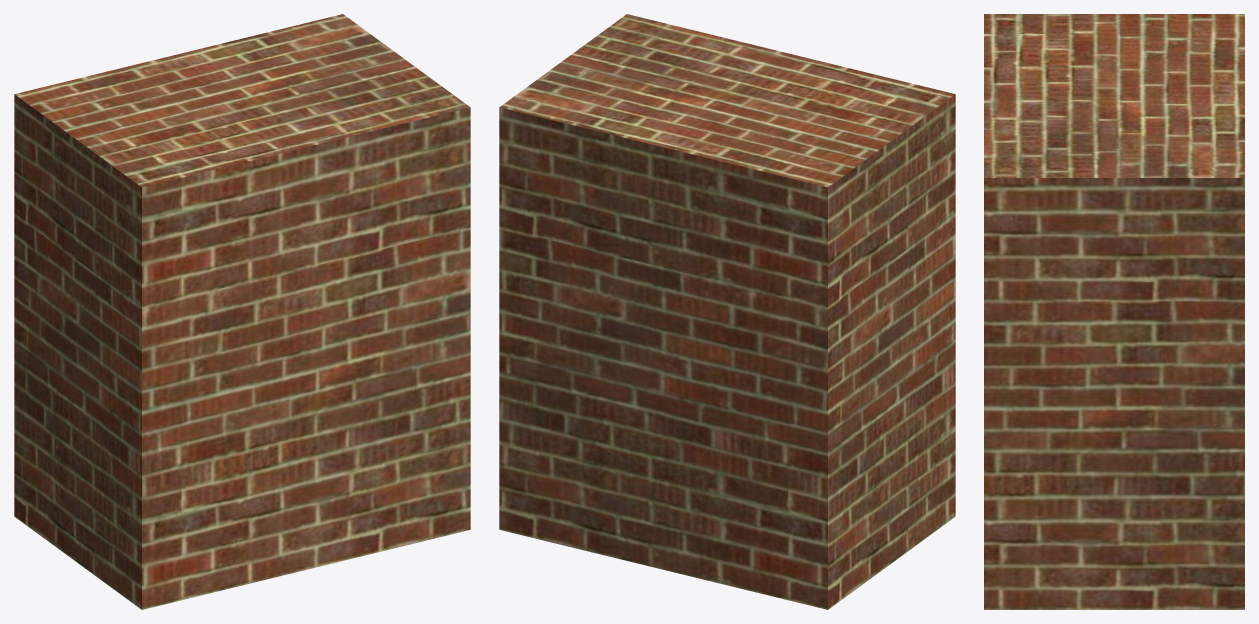
3 views of the same model, side by side, from view 1: azimuth 30°, elevation 25°; view 2: azimuth 150°, elevation 25°; view 3: azimuth 270°, elevation 25° (orthographic). The views are drawn at different scales.
Parts seen in each view (by area): view 1: Mesh1 Model; view 2: Mesh1 Model; view 3: Mesh1 Model.
Boxes of the visible parts, x1,y1,x2,y2 form: Mesh1 Model: [14, 14, 470, 609]; Mesh1 Model: [499, 14, 955, 609]; Mesh1 Model: [984, 14, 1244, 609].
Size of the model in its own units: 42.12 by 51.75 by 28.31.
Materials: 1 (1 with a texture image).
